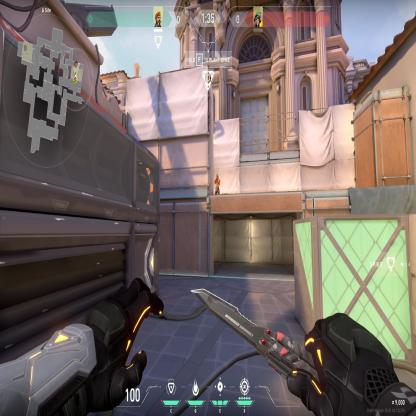enemy: (214, 173, 220, 195)
